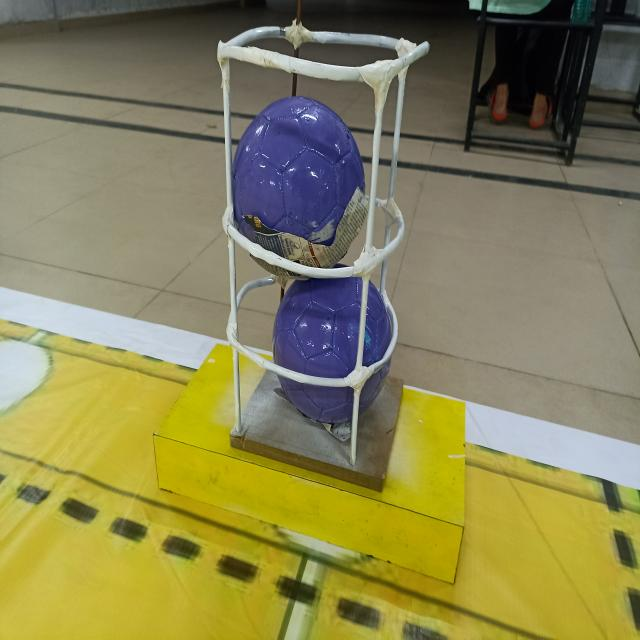purple_ball: (229, 95, 363, 279), (280, 280, 388, 432)
silo: (214, 15, 427, 479)
